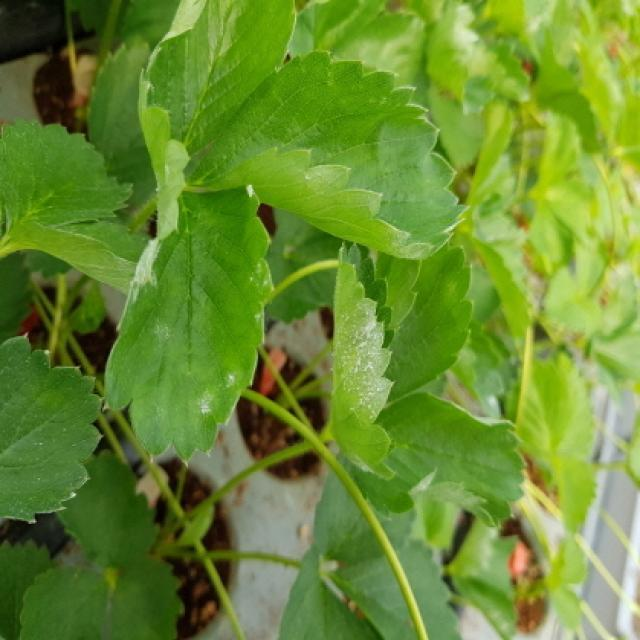powdery_mildew_leaf: (102, 182, 275, 465), (331, 240, 397, 482)
